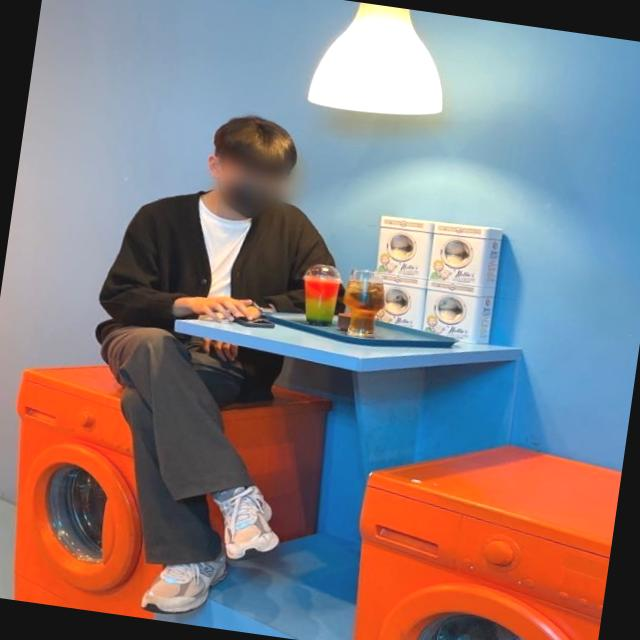cardigan: (84, 176, 351, 407)
slacks: (70, 318, 276, 573)
